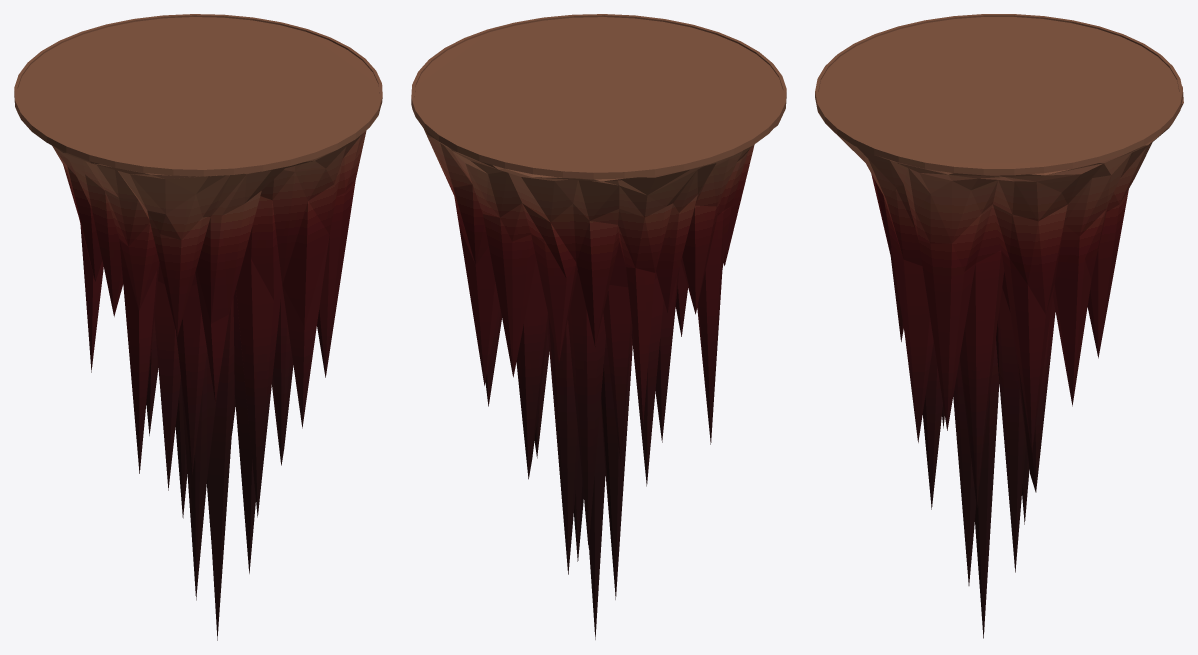
Rendered from Platform.fbx.
3 views of the same model, side by side, from view 1: azimuth 30°, elevation 25°; view 2: azimuth 150°, elevation 25°; view 3: azimuth 270°, elevation 25° (orthographic). The views are drawn at different scales.
Visible parts, largest first — view 1: Plane; view 2: Plane; view 3: Plane.
Part boxes in pixels (bbox=[...]): Plane: bbox=[14, 14, 382, 640]; Plane: bbox=[411, 14, 786, 639]; Plane: bbox=[815, 14, 1183, 638].
Bounding box in the file's own units: 6263 × 10255 × 6301.
